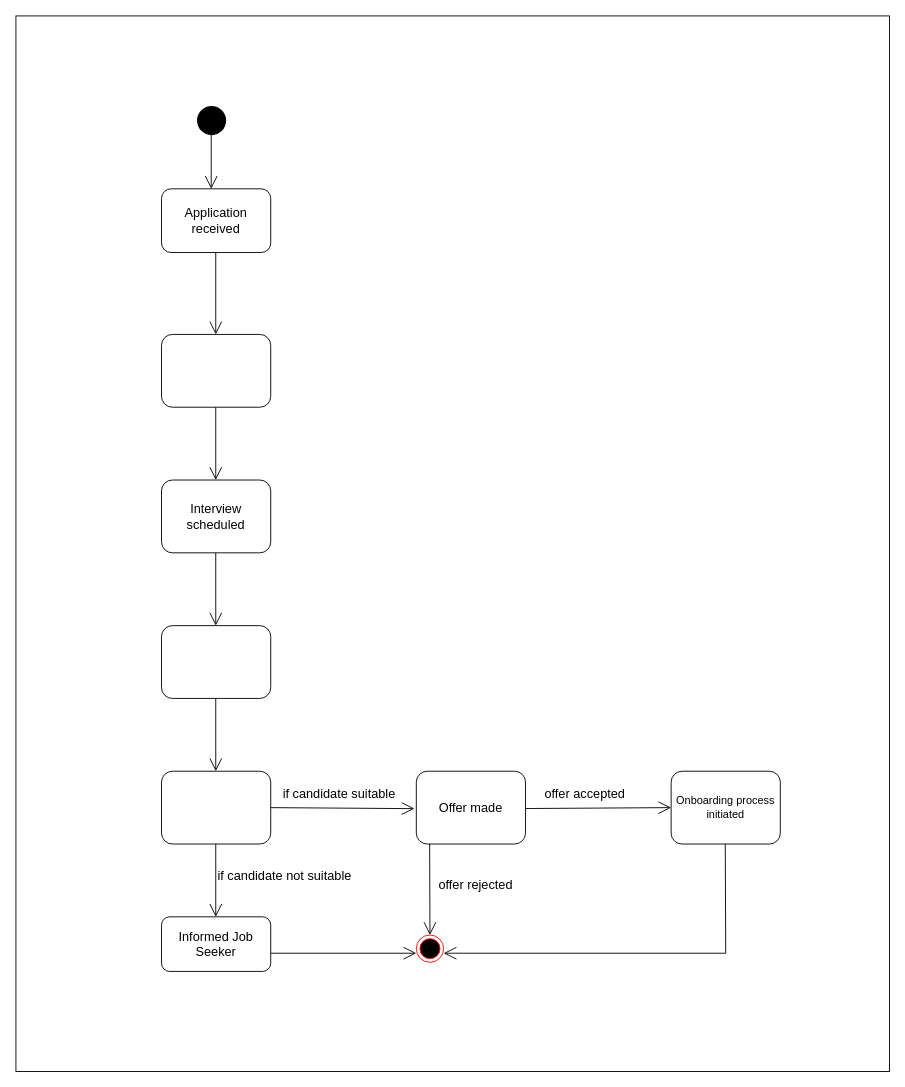
The diagram is 905 pixels wide and 1087 high, and some of its shapes have lost their labels. Each missing label, with the centre of its shape:
"Application under review" belongs at point 216,370.
"Decision pending" belongs at point 216,807.
"Interview completed" belongs at point 216,661.
